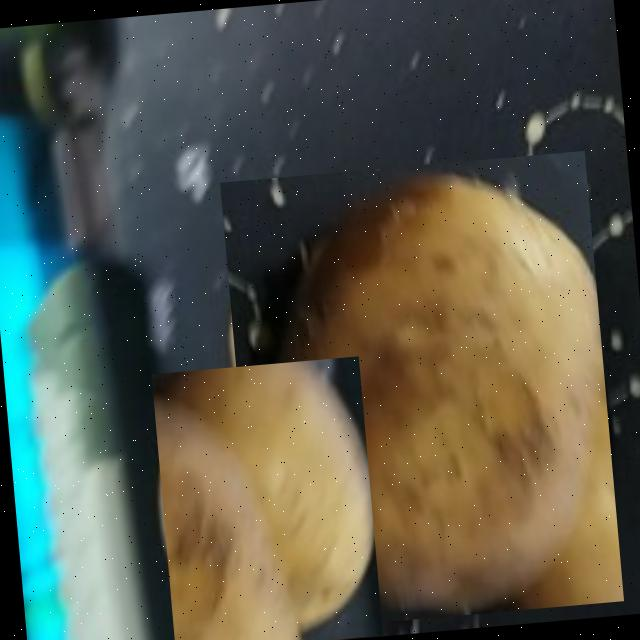Damaged potato: (220, 149, 624, 632)
Potato: (151, 355, 383, 640)
